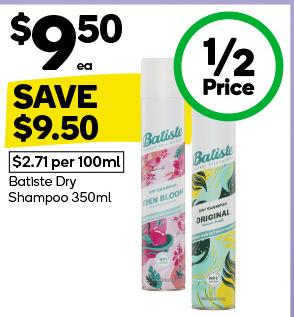description_block: (6, 173, 124, 204)
price_main: (6, 8, 131, 73)
product_image_block: (137, 101, 250, 312)
promo_text_block: (2, 78, 144, 142)
unit_price_block: (6, 149, 128, 175)
